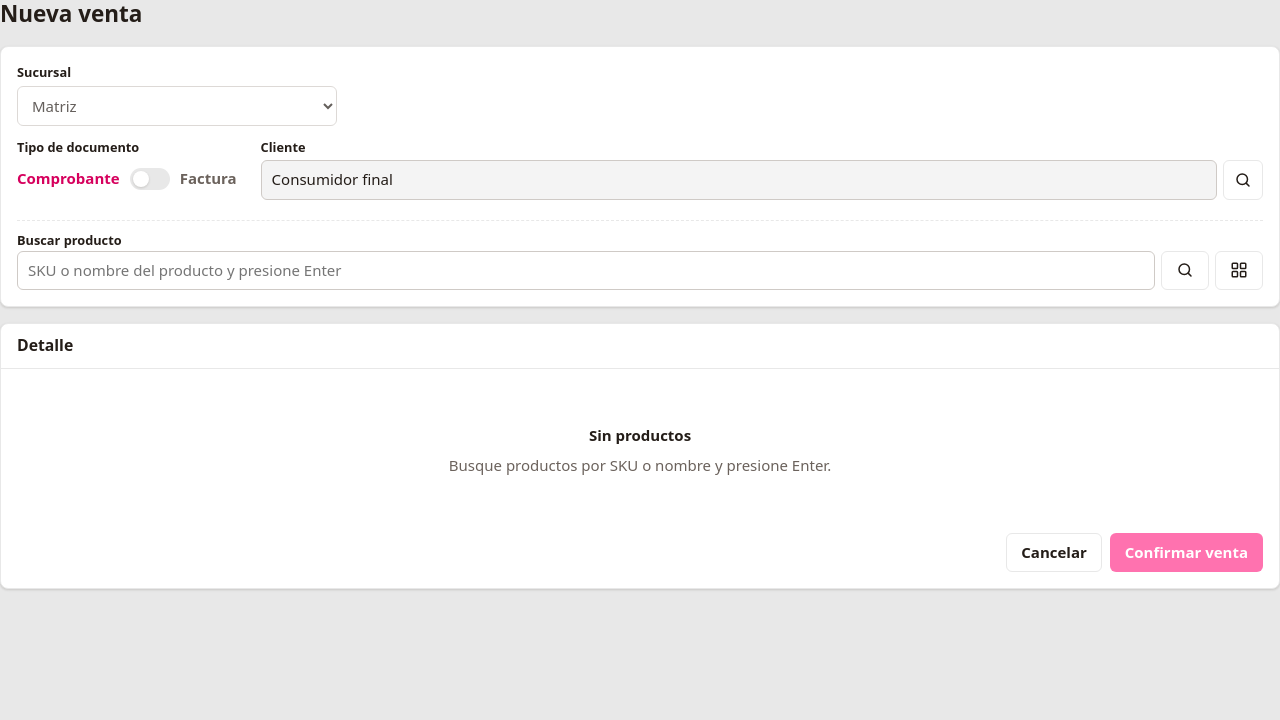
Test: NewSalePage › picks a product by name and image in the product grid, filtering while typing
Click the button named "Ver productos" at [1239, 270], box [1215, 251, 1263, 290]
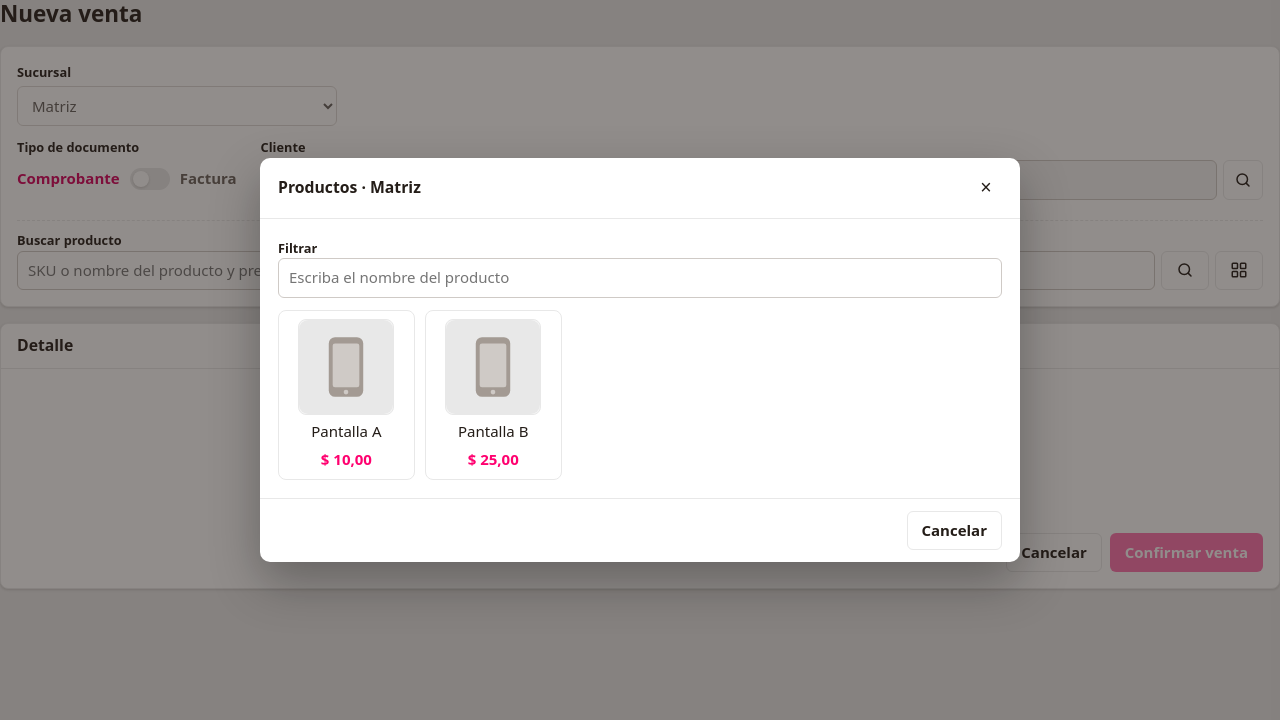
Now the text "Pantalla A" is shown, box [311, 421, 382, 443]
Now the text "Pantalla B" is shown, box [458, 421, 528, 443]
Now the picture named "Pantalla A" is shown, box [298, 319, 394, 415]
Type "b" into the search field labelled "Filtrar" at [640, 278], box [278, 258, 1002, 298]
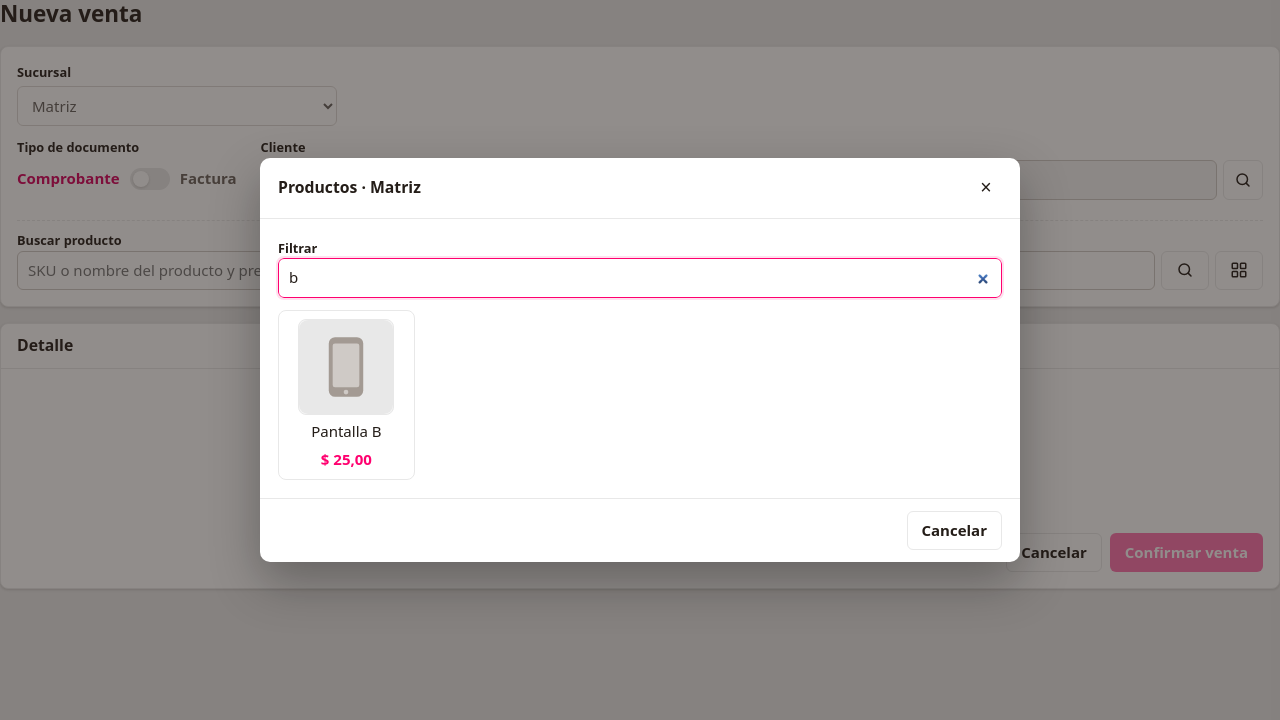
Now the text "Pantalla B" is shown
Now the button "Pantalla A" is gone
Click the text "Pantalla B" at [346, 432], box [311, 421, 382, 443]
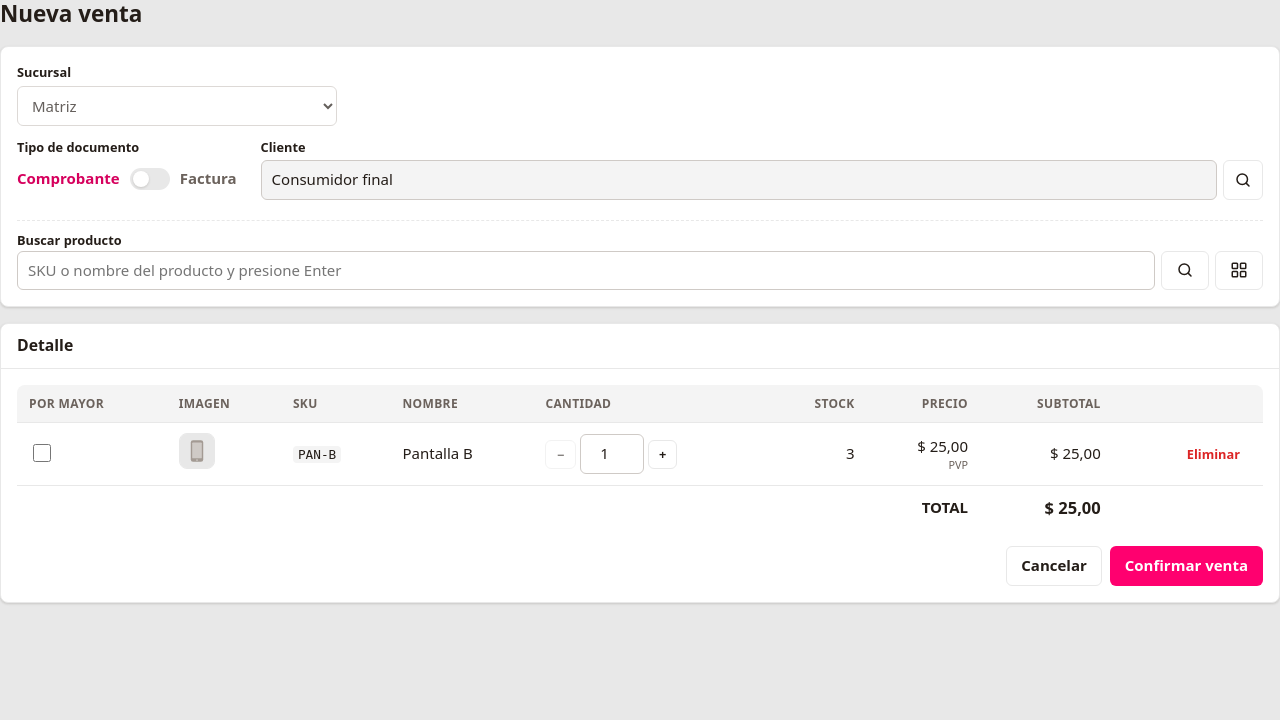
Now the text "productos" is gone
Now the number field named "Cantidad de Pantalla B" is shown, box [580, 434, 644, 474]
